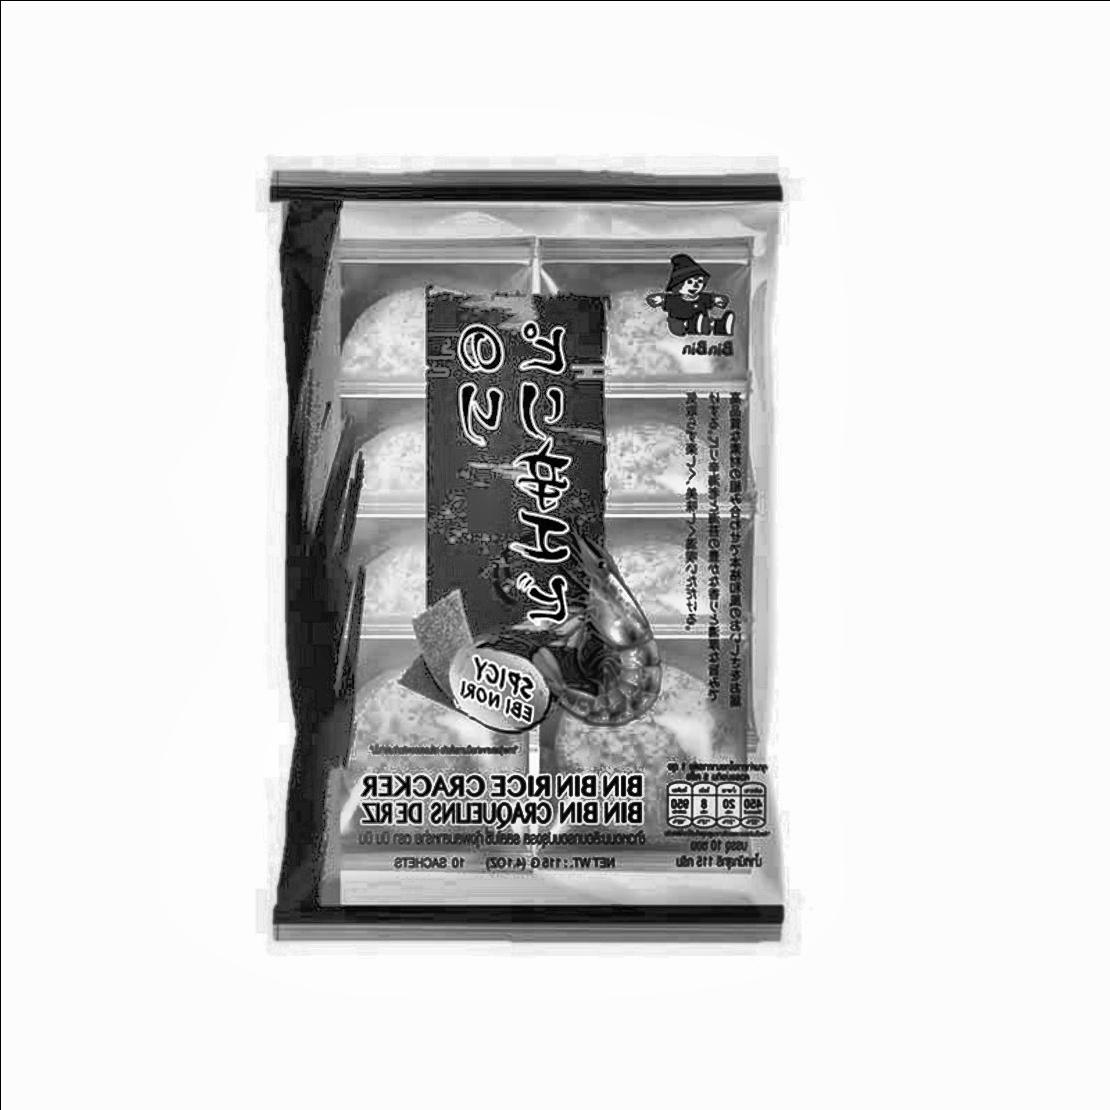snackbag: (147, 73, 904, 1033)
